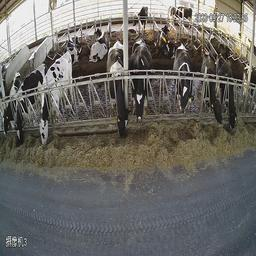cow: (40, 53, 72, 144), (14, 62, 40, 147), (199, 48, 225, 127), (109, 43, 128, 136), (129, 35, 149, 121), (222, 52, 240, 128), (174, 44, 193, 112), (6, 69, 16, 148), (155, 21, 175, 59), (90, 24, 106, 65), (130, 5, 150, 36), (66, 29, 81, 63), (177, 2, 193, 28), (167, 2, 176, 23)
